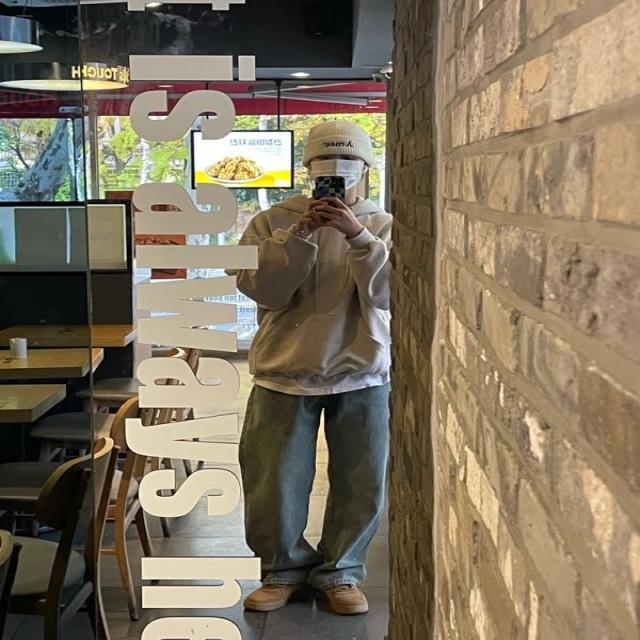denimpants: (236, 367, 384, 589)
hoodies: (228, 194, 392, 381)
